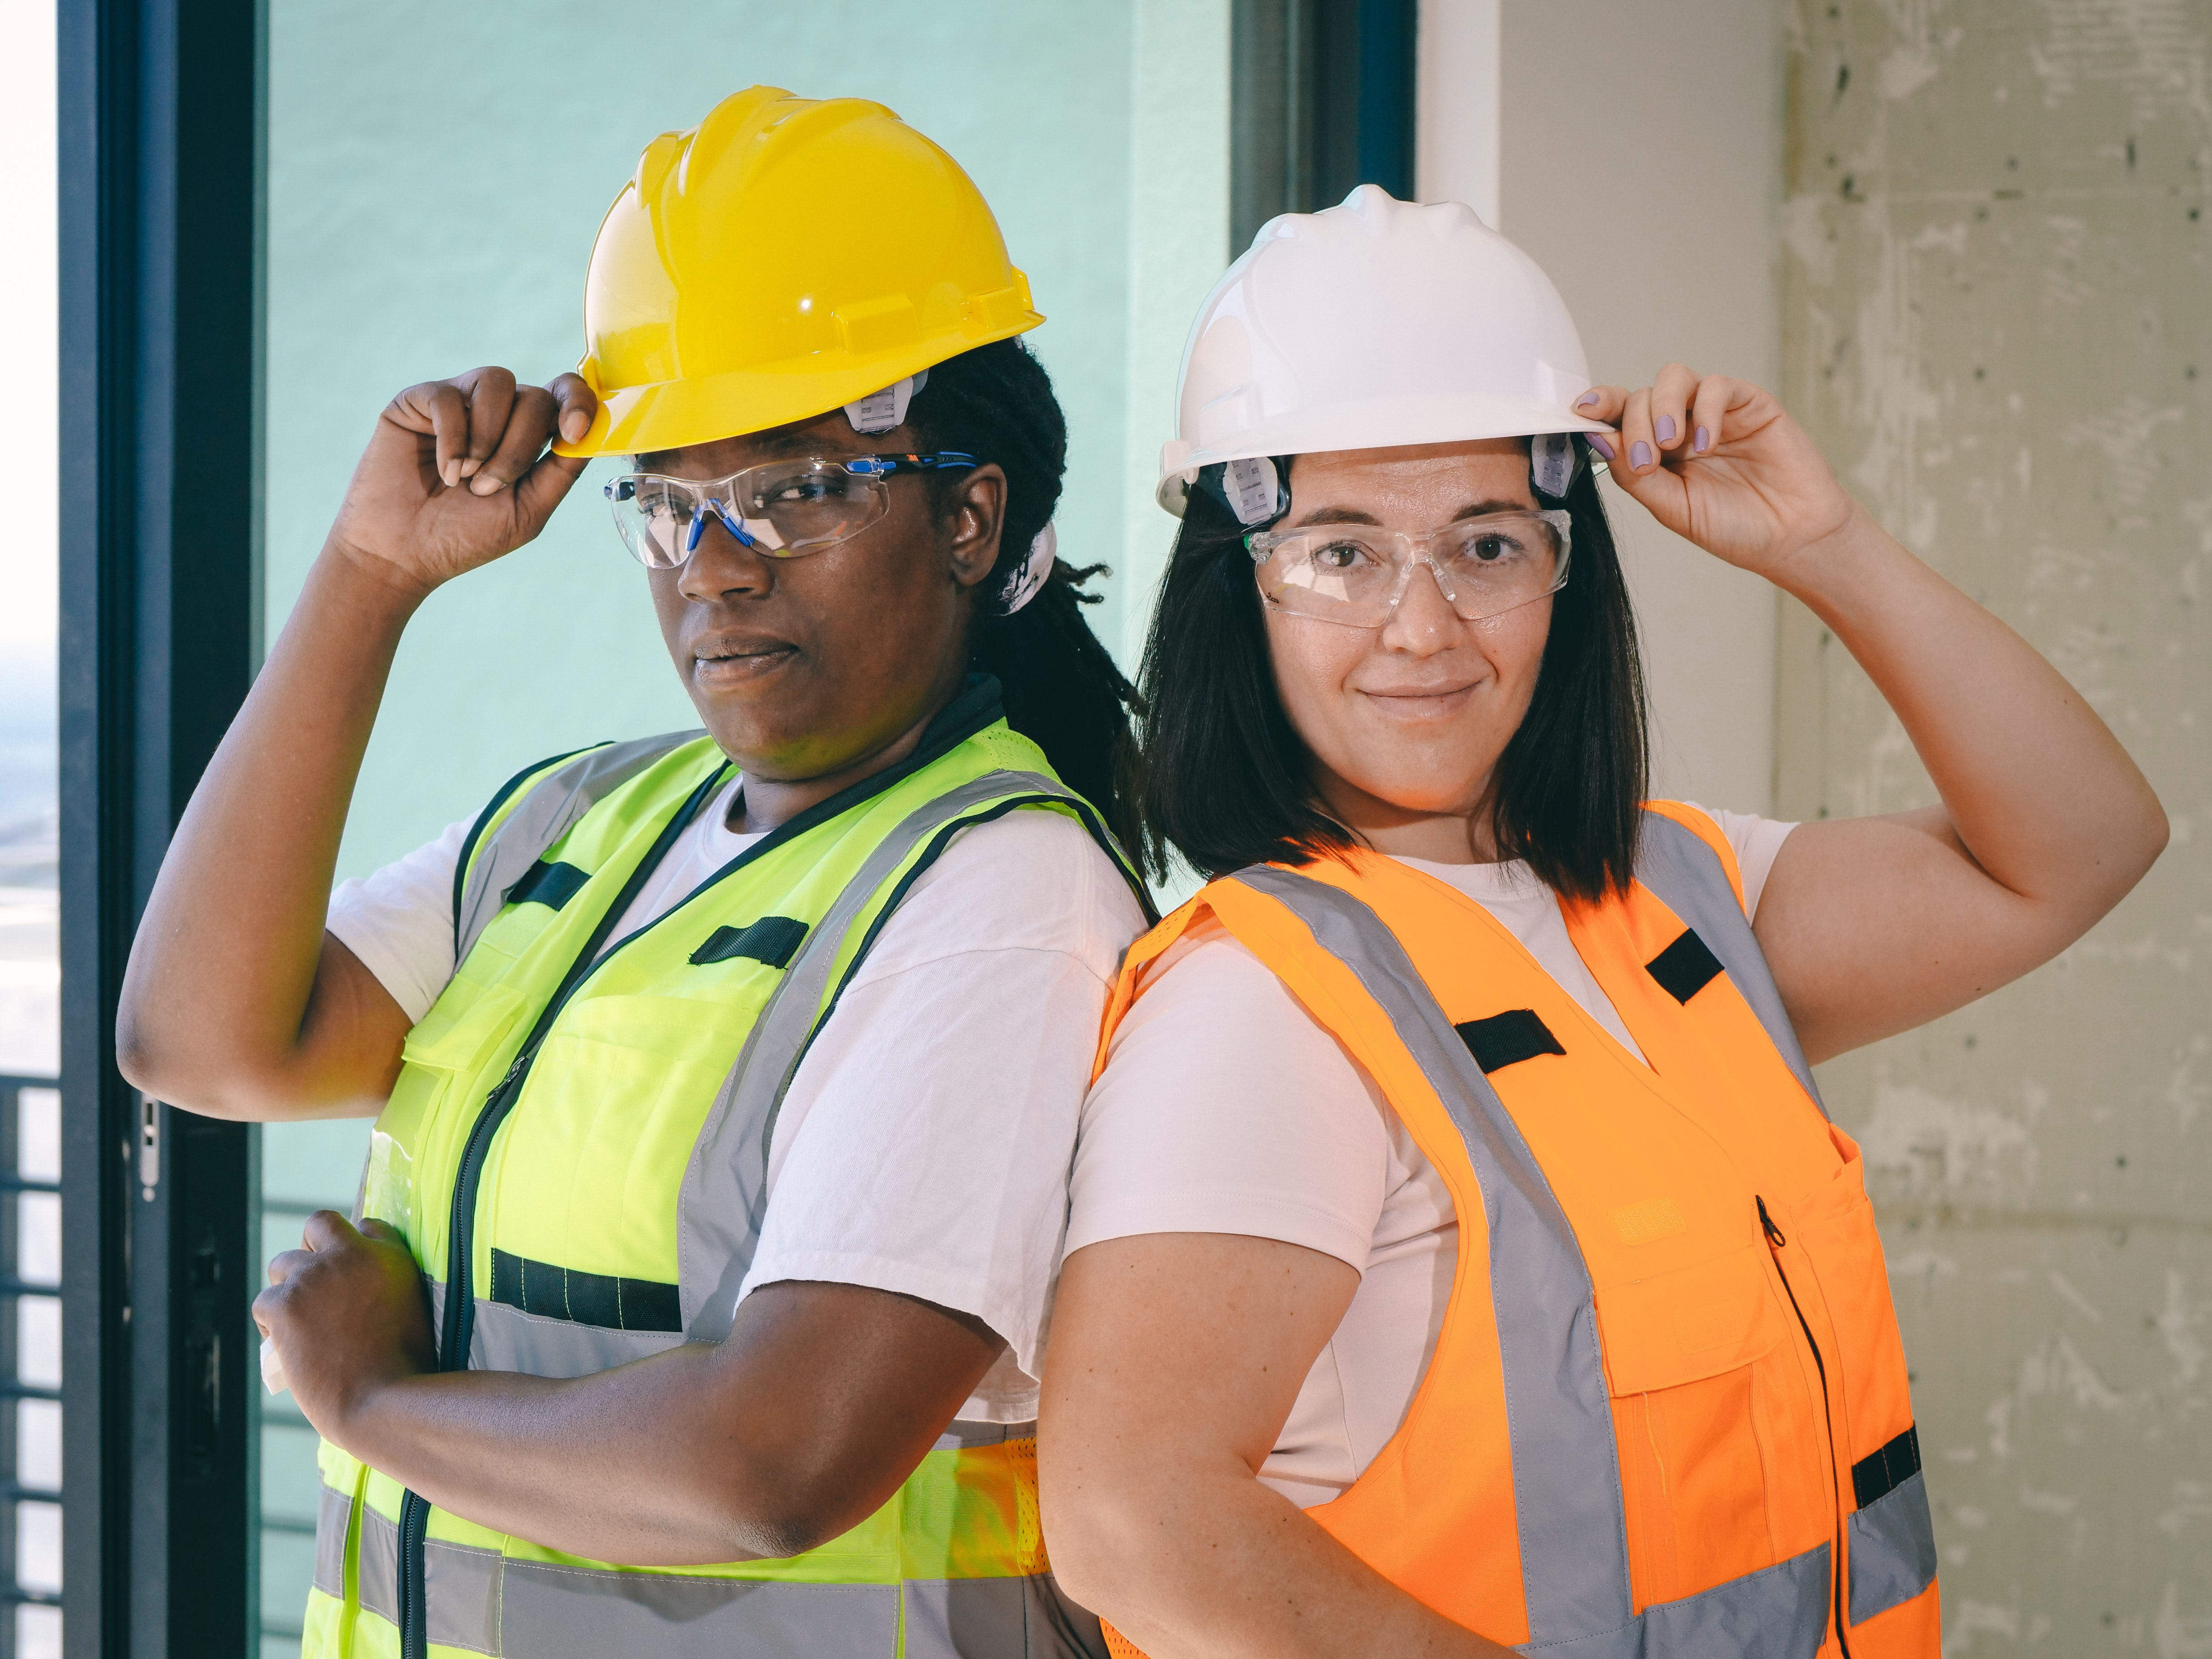Helmet: (540, 82, 1096, 807), (1115, 174, 1627, 842)
Reflective vest: (301, 734, 1141, 1659), (1097, 807, 1966, 1659)
